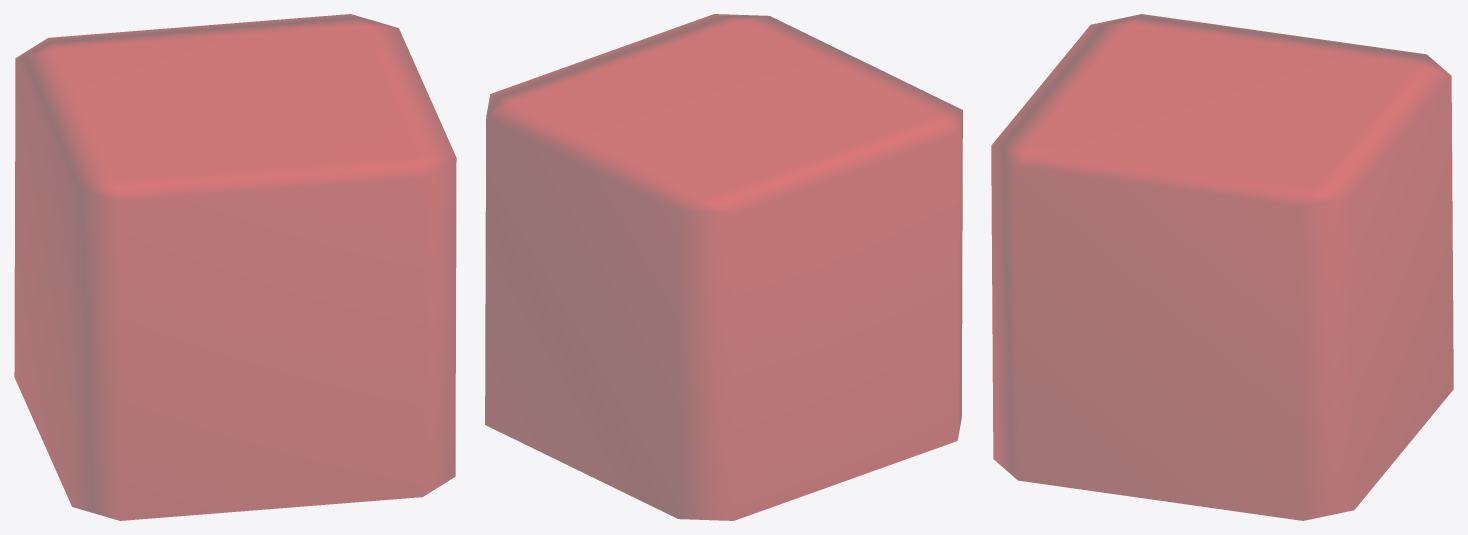
File: Box_Highlight.gltf
3 renders of one model, left to right at view 1: azimuth 30°, elevation 25°; view 2: azimuth 150°, elevation 25°; view 3: azimuth 270°, elevation 25°, orthographic. The views are drawn at different scales.
Parts seen in each view (by area): view 1: Box_Highlight; view 2: Box_Highlight; view 3: Box_Highlight.
Part boxes in pixels (<box>): Box_Highlight: <box>14,14,456,520</box>; Box_Highlight: <box>485,14,962,520</box>; Box_Highlight: <box>991,14,1453,520</box>.
Size of the model in its own units: 2.8 by 2.18 by 2.81.
